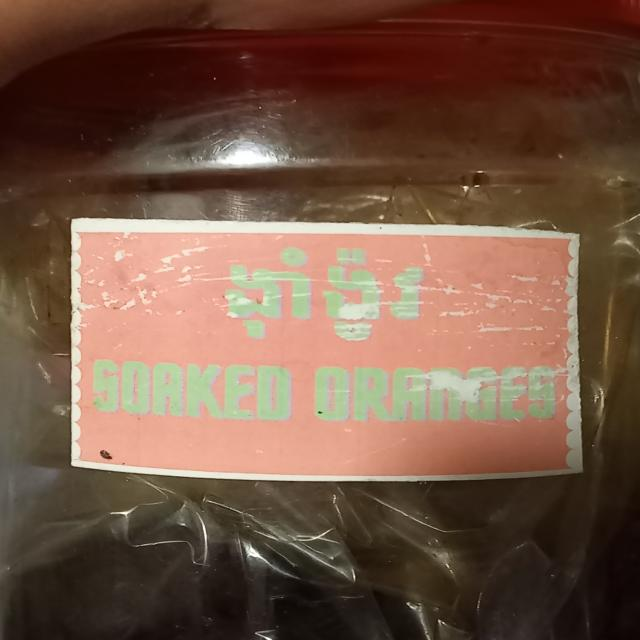Yolov11_80vkh: (213, 229, 464, 351)
